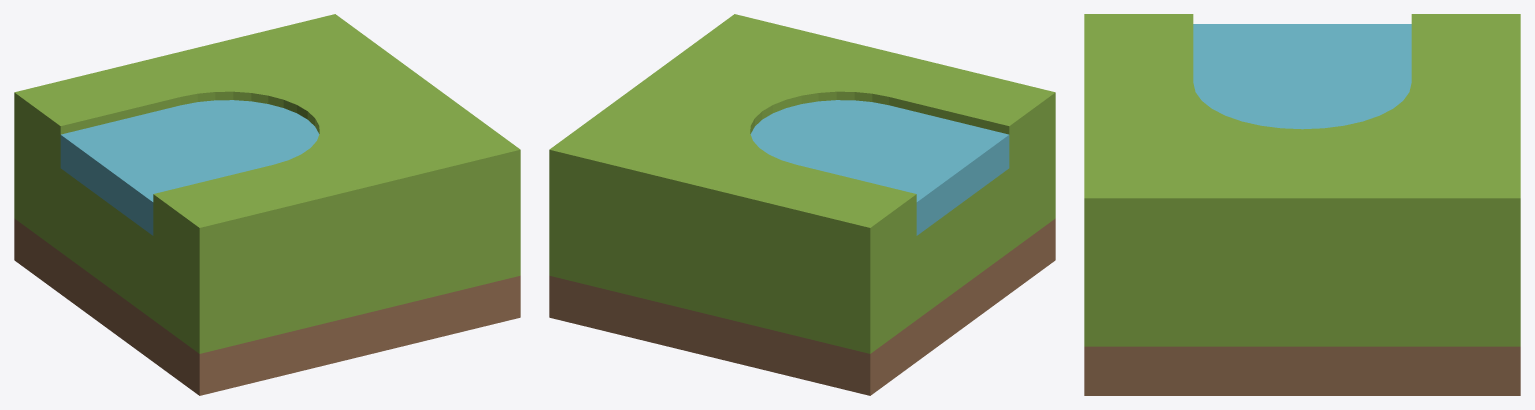
The model's file is river-end-high.obj.
3 views of the same model, side by side, from view 1: azimuth 30°, elevation 25°; view 2: azimuth 150°, elevation 25°; view 3: azimuth 270°, elevation 25° (orthographic). The views are drawn at different scales.
Parts seen in each view (by area): view 1: Z_Cube.560; view 2: Z_Cube.560; view 3: Z_Cube.560.
Boxes of the visible parts, box(x1,y1,x2,y2) form: Z_Cube.560: box(14, 14, 520, 395); Z_Cube.560: box(549, 14, 1055, 395); Z_Cube.560: box(1084, 14, 1520, 395).
Bounding box in the file's own units: 8 × 4 × 8.
1 material, 1 textured.
